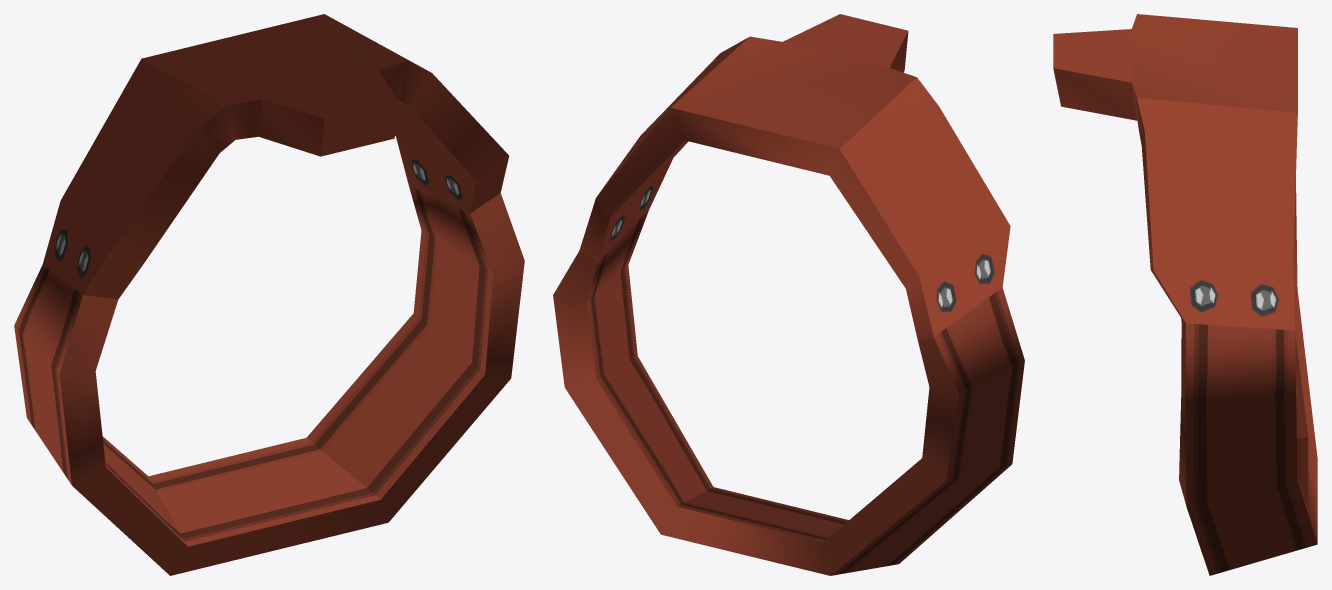
Rendered from Headband.glb.
The picture shows the model from 3 angles, left to right: view 1: azimuth 30°, elevation 25°; view 2: azimuth 150°, elevation 25°; view 3: azimuth 270°, elevation 25°; orthographic projection. The views are drawn at different scales.
Visible parts, largest first — view 1: Headband; view 2: Headband; view 3: Headband.
Boxes of the visible parts, x1,y1,x2,y2 form: Headband: [14, 14, 524, 575]; Headband: [553, 14, 1024, 575]; Headband: [1053, 14, 1317, 575].
Size of the model in its own units: 0.2648 by 0.2717 by 0.1373.
Materials: 1 (1 with a texture image).
